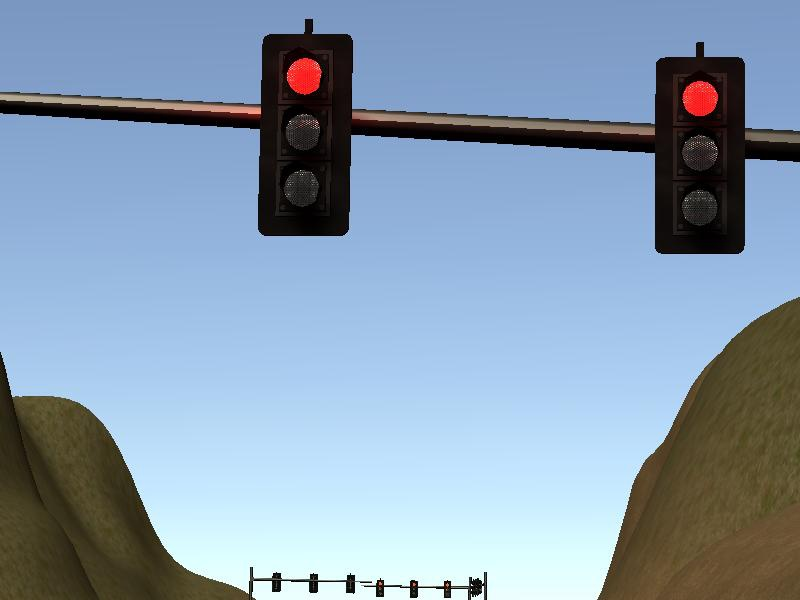Red: (253, 31, 353, 241), (651, 55, 747, 262)
